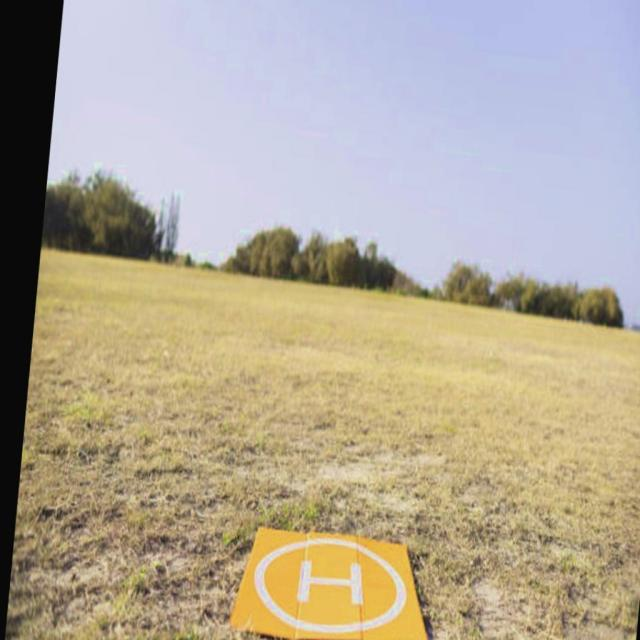helipad: (250, 533, 412, 636)
